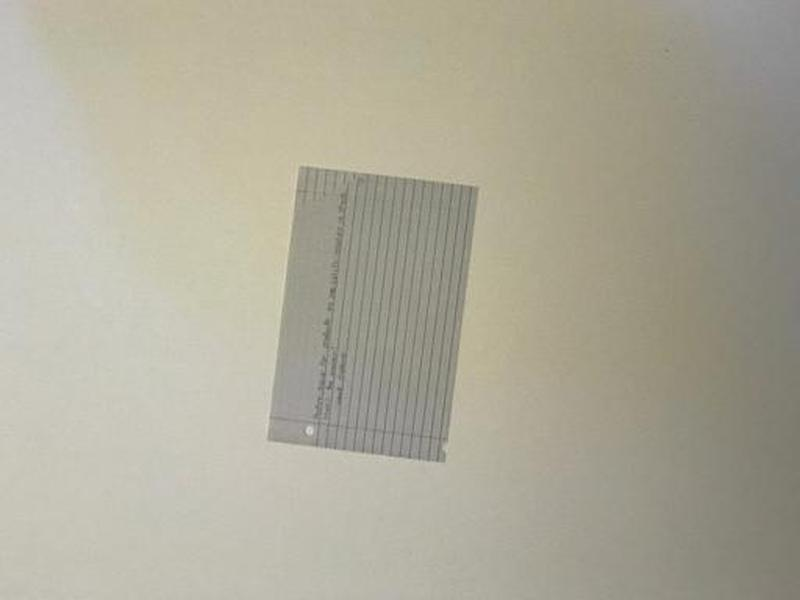paper: (263, 153, 481, 468)
